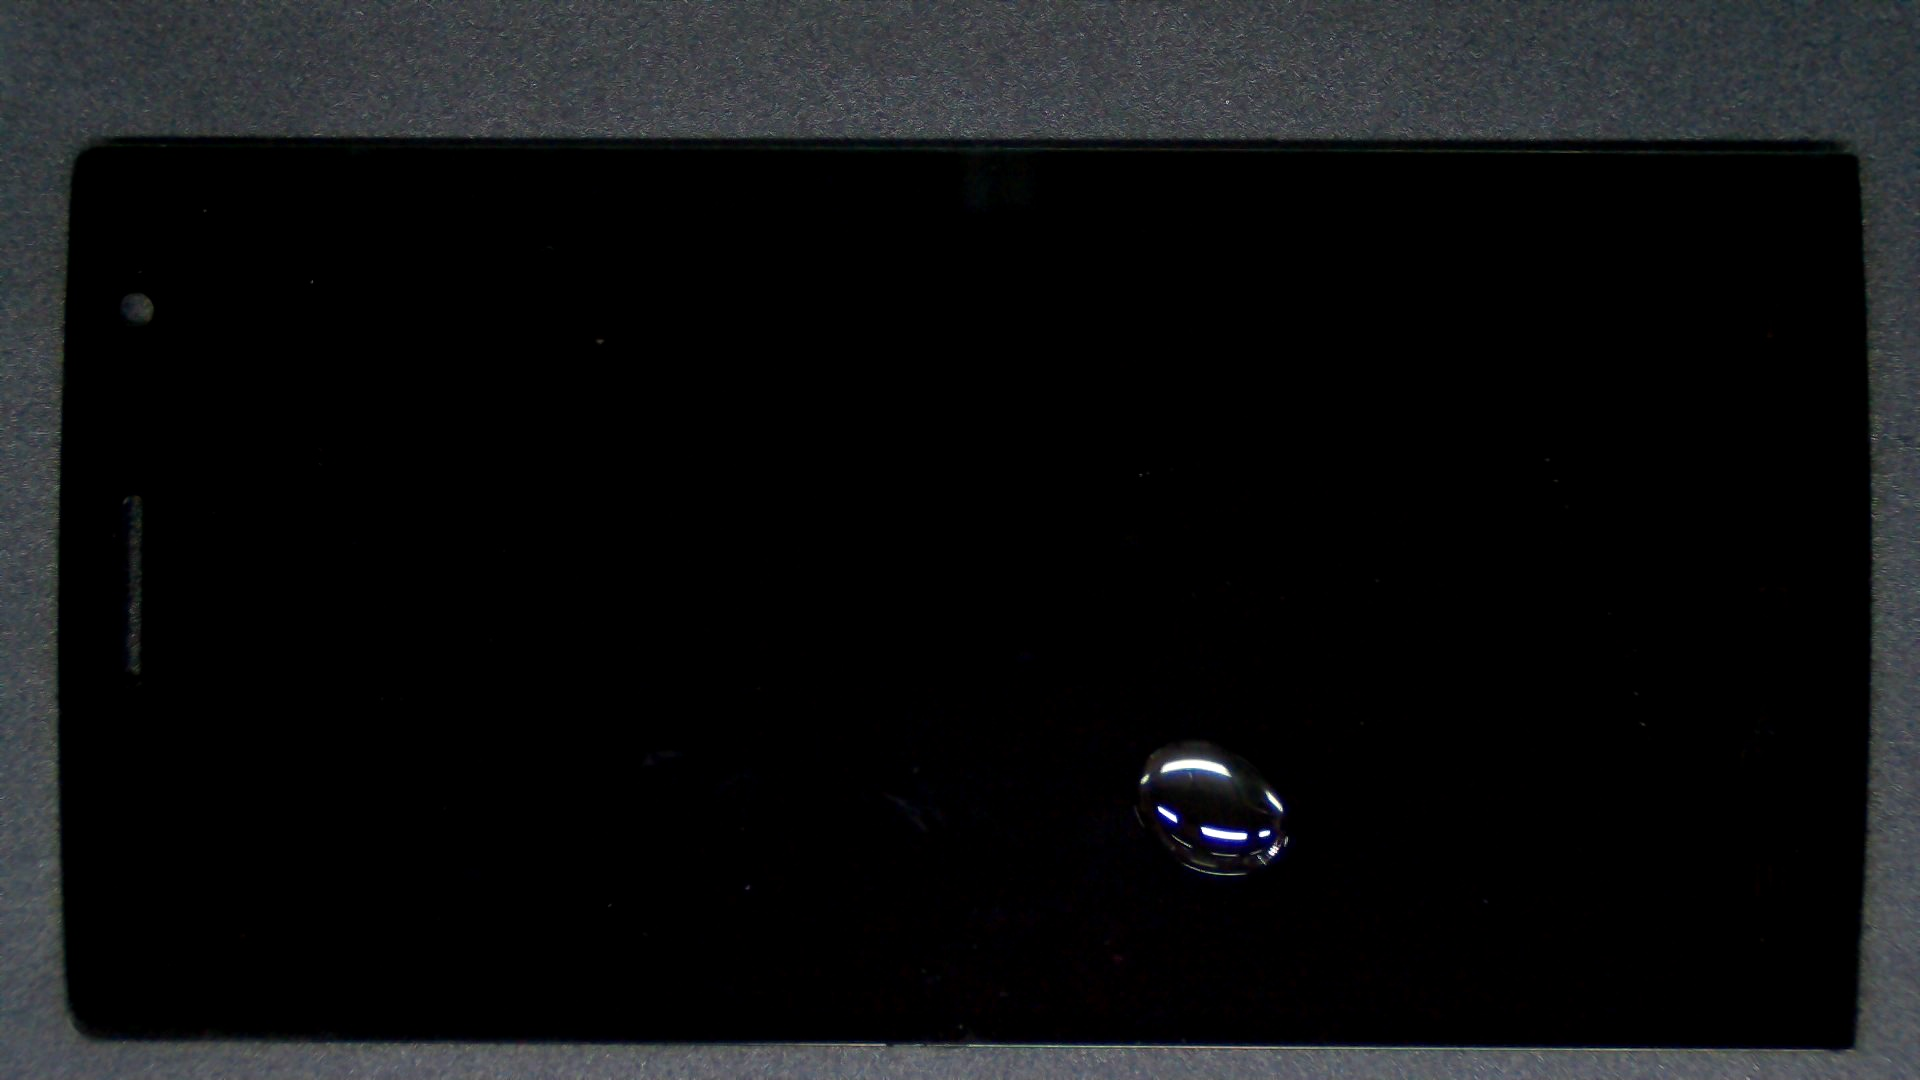oil: (592, 369, 1774, 1080)
